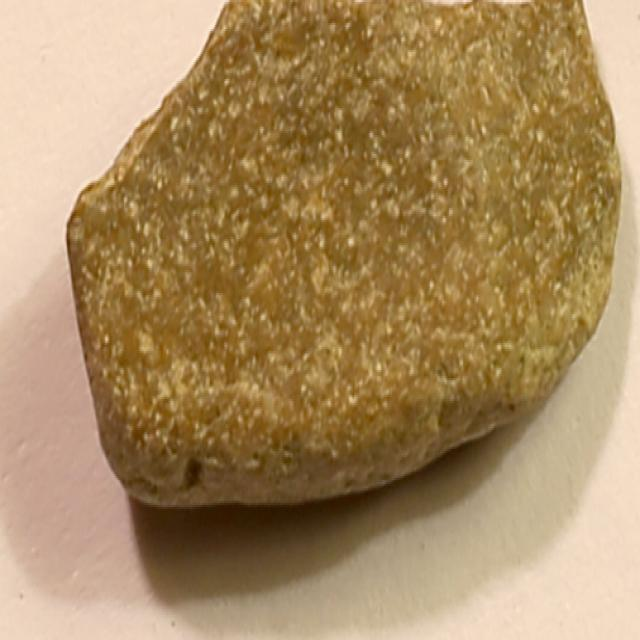stone: (67, 0, 628, 511)
